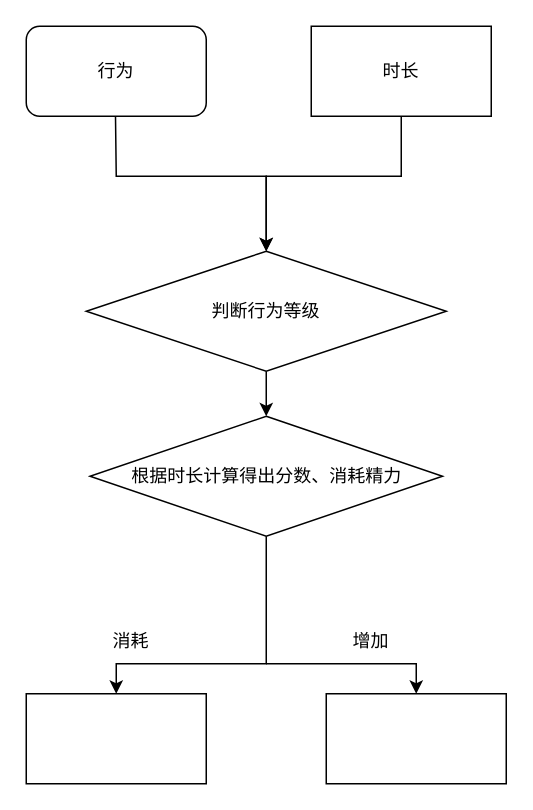
This 533x810 diagram has some shape labels left out. The centre of each missing label's shape, as x and y in pixels:
"总分数" belongs at (x=415, y=738).
"总精力值" belongs at (x=115, y=738).
